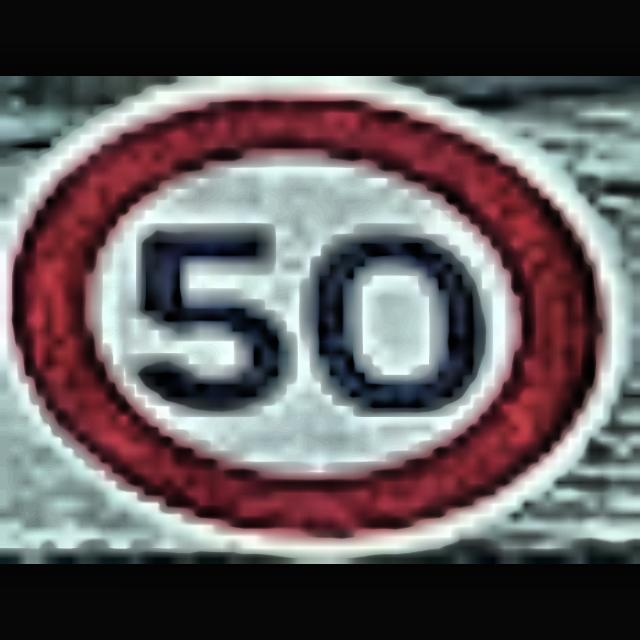speed_50: (0, 76, 640, 564)
